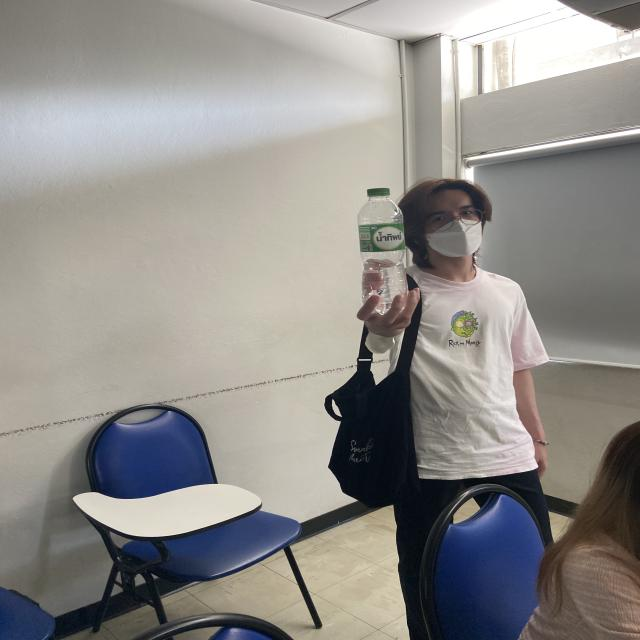bottle: (356, 186, 411, 314)
